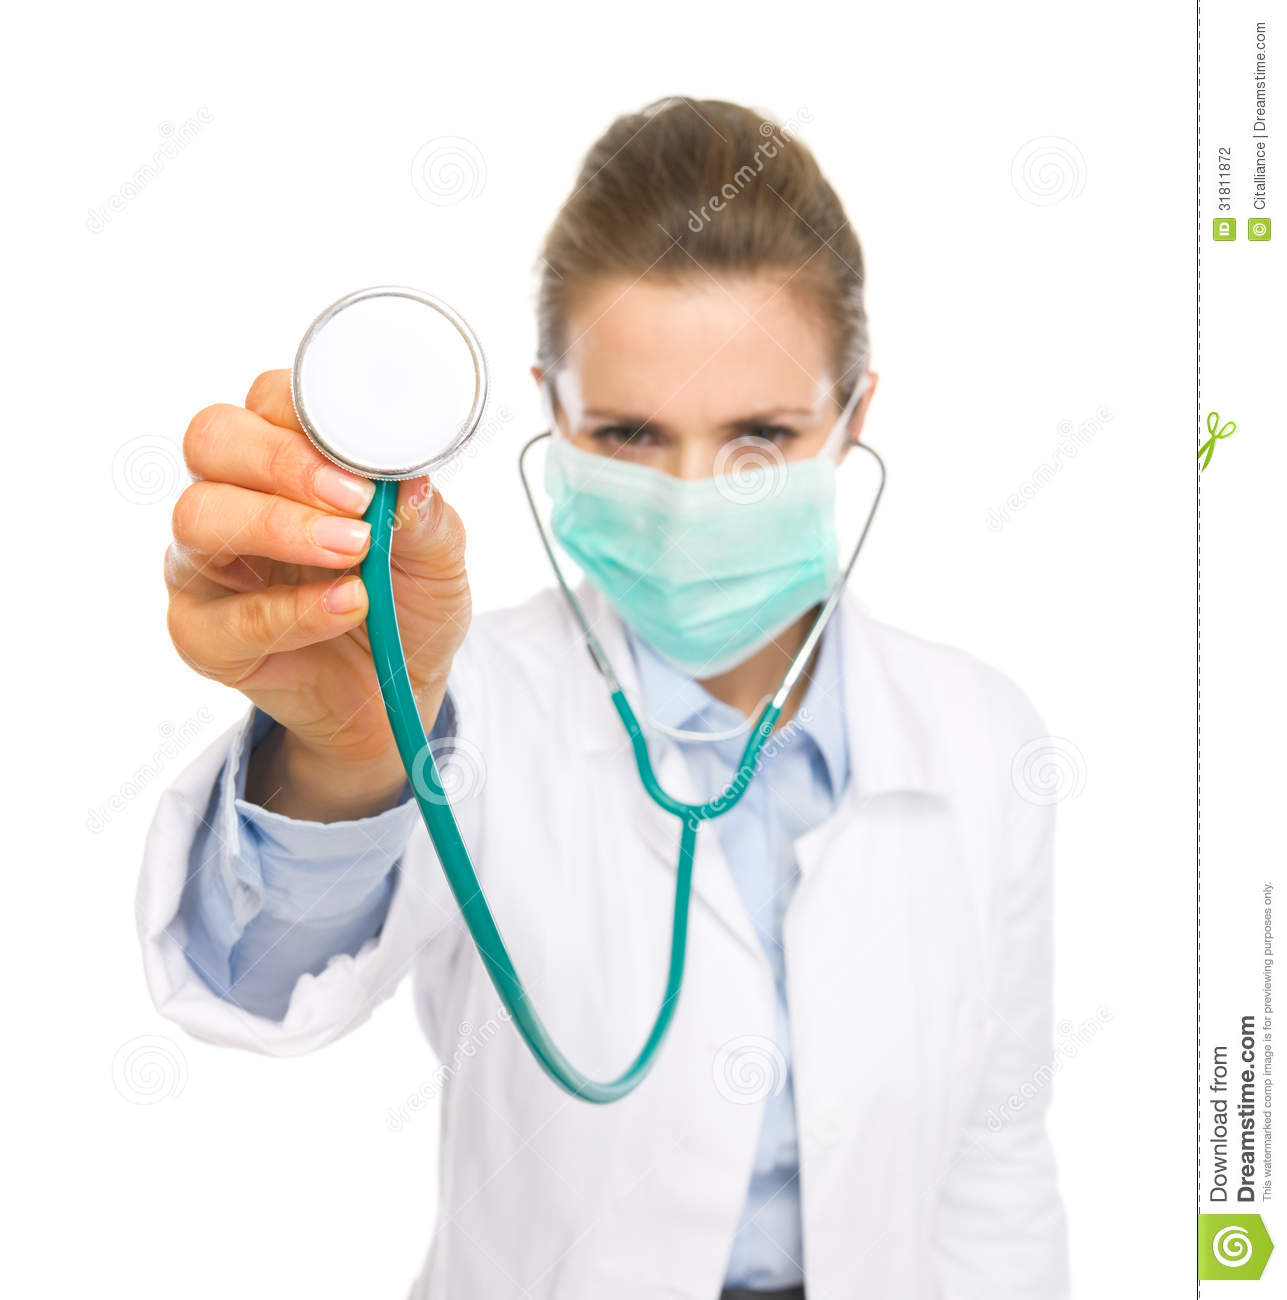mask: (539, 428, 841, 684)
